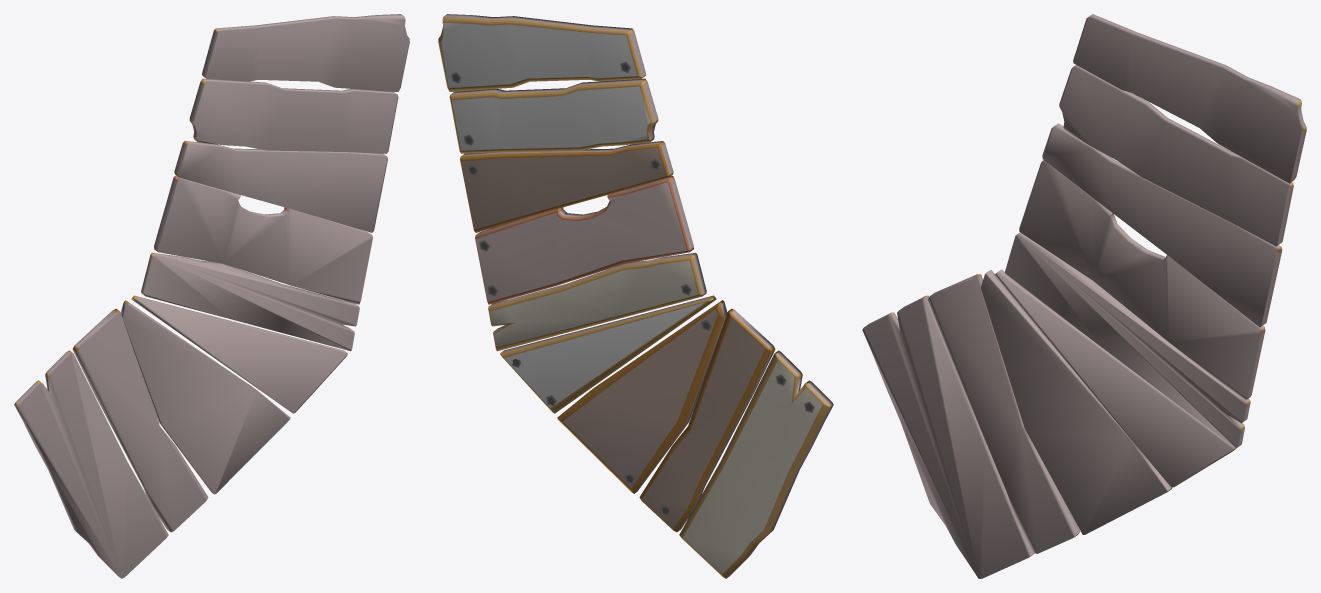
File: FishingDockSmall.fbx
3 renders of one model, left to right at view 1: azimuth 30°, elevation 25°; view 2: azimuth 150°, elevation 25°; view 3: azimuth 330°, elevation 25°, orthographic. The views are drawn at different scales.
Visible parts, largest first — view 1: FishingDockSmall; view 2: FishingDockSmall; view 3: FishingDockSmall.
Part boxes in pixels (x1=…): FishingDockSmall: x1=14, y1=14, x2=409, y2=578; FishingDockSmall: x1=438, y1=14, x2=833, y2=578; FishingDockSmall: x1=862, y1=14, x2=1306, y2=578.
Size of the model in its own units: 457 by 584 by 11.53.
